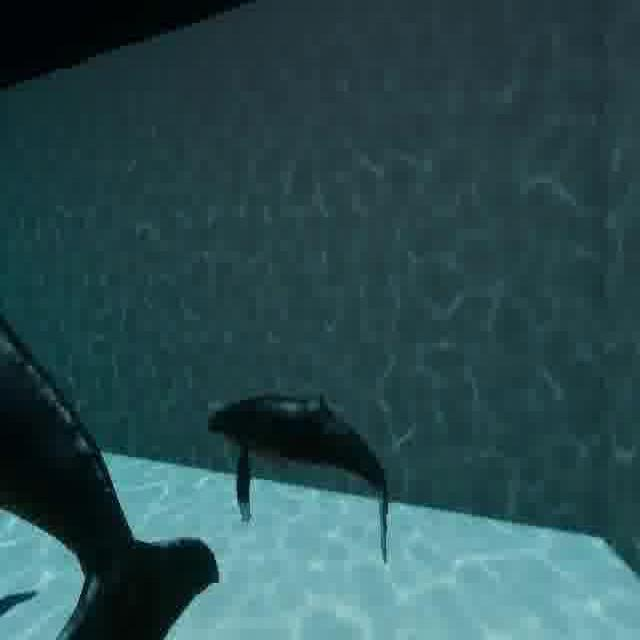Whale: (0, 284, 224, 640), (206, 388, 429, 583)
